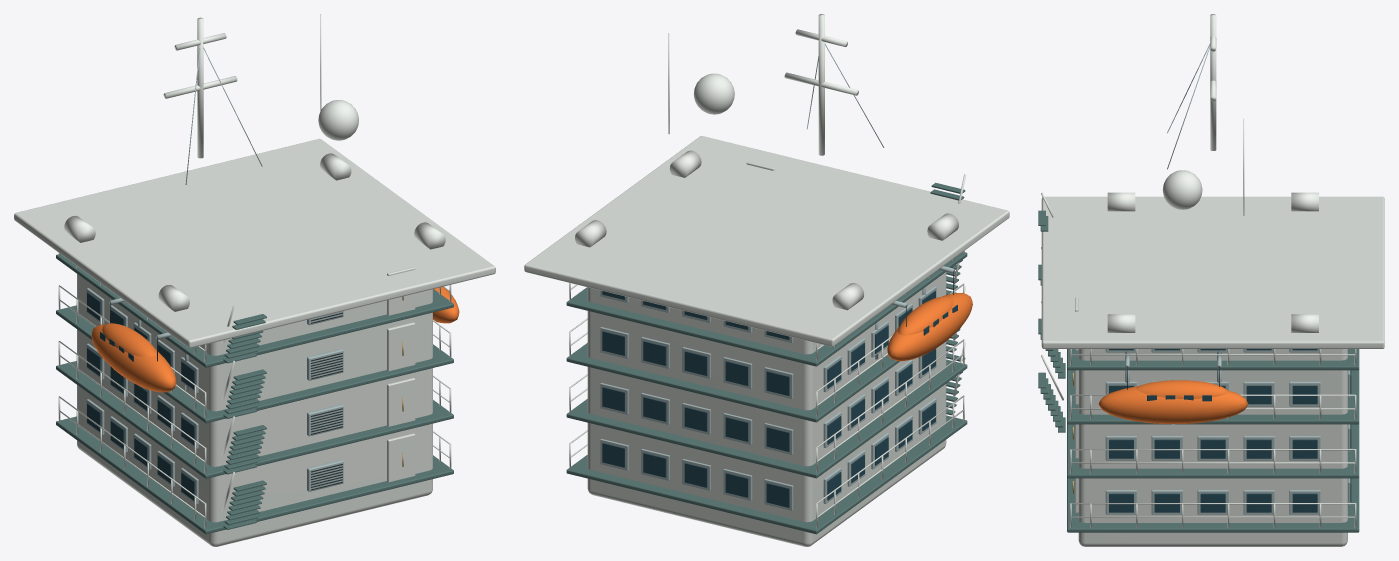
The model's file is merchant-accommodation.glb.
3 views of the same model, side by side, from view 1: azimuth 30°, elevation 25°; view 2: azimuth 150°, elevation 25°; view 3: azimuth 270°, elevation 25° (orthographic). The views are drawn at different scales.
Parts seen in each view (by area): view 1: Merchant Warm marine enamel.001, Merchant Nonslip green deck.001, Merchant Edge aluminium.001, Merchant Antenna fiberglass.001, Merchant Rescue orange.001, Merchant Blue smoked glazing.001, Merchant Rubber and fittings.001; view 2: Merchant Warm marine enamel.001, Merchant Nonslip green deck.001, Merchant Blue smoked glazing.001, Merchant Edge aluminium.001, Merchant Antenna fiberglass.001, Merchant Rescue orange.001; view 3: Merchant Warm marine enamel.001, Merchant Nonslip green deck.001, Merchant Blue smoked glazing.001, Merchant Edge aluminium.001, Merchant Rescue orange.001, Merchant Antenna fiberglass.001.
Part boxes in pixels (box(x1,y1,x2,y2)): Merchant Warm marine enamel.001: box(14, 138, 495, 546); Merchant Nonslip green deck.001: box(56, 254, 453, 534); Merchant Edge aluminium.001: box(86, 47, 343, 504); Merchant Antenna fiberglass.001: box(64, 14, 445, 311); Merchant Rescue orange.001: box(91, 287, 459, 392); Merchant Blue smoked glazing.001: box(87, 292, 194, 500); Merchant Rubber and fittings.001: box(110, 303, 342, 490); Merchant Warm marine enamel.001: box(524, 136, 1009, 546); Merchant Nonslip green deck.001: box(566, 182, 967, 534); Merchant Blue smoked glazing.001: box(602, 290, 957, 507); Merchant Edge aluminium.001: box(600, 43, 954, 510); Merchant Antenna fiberglass.001: box(575, 14, 958, 310); Merchant Rescue orange.001: box(887, 293, 972, 361); Merchant Warm marine enamel.001: box(1041, 192, 1384, 546); Merchant Nonslip green deck.001: box(1038, 210, 1359, 532); Merchant Blue smoked glazing.001: box(1109, 349, 1351, 512); Merchant Edge aluminium.001: box(1105, 43, 1350, 514); Merchant Rescue orange.001: box(1098, 380, 1248, 424); Merchant Antenna fiberglass.001: box(1107, 14, 1318, 332).
Bounding box in the file's own units: 11.76 × 16.4 × 11.32.
